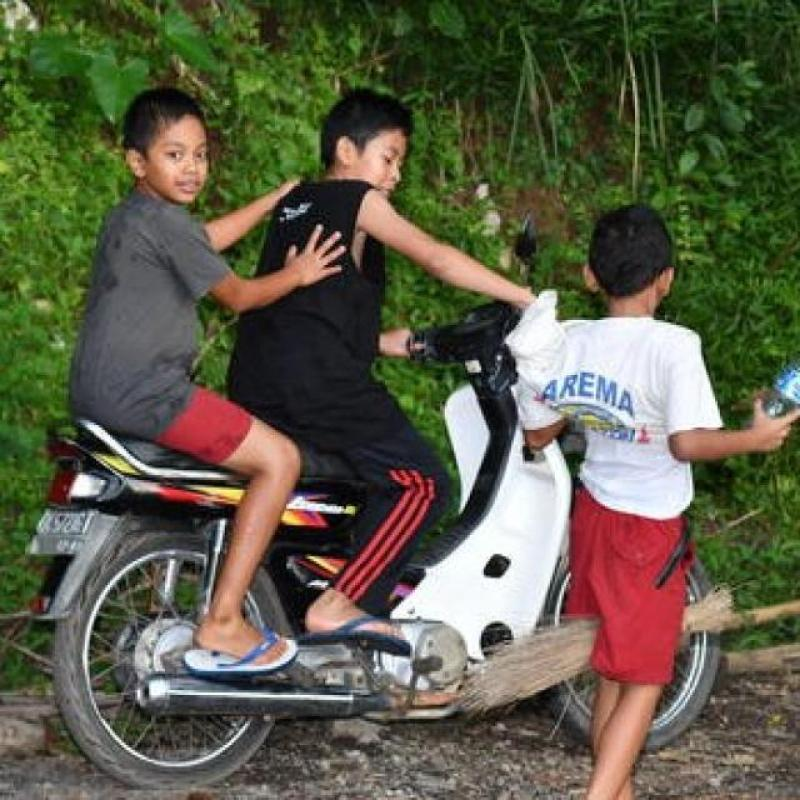nohelmet: (117, 79, 228, 211), (312, 95, 433, 184)
